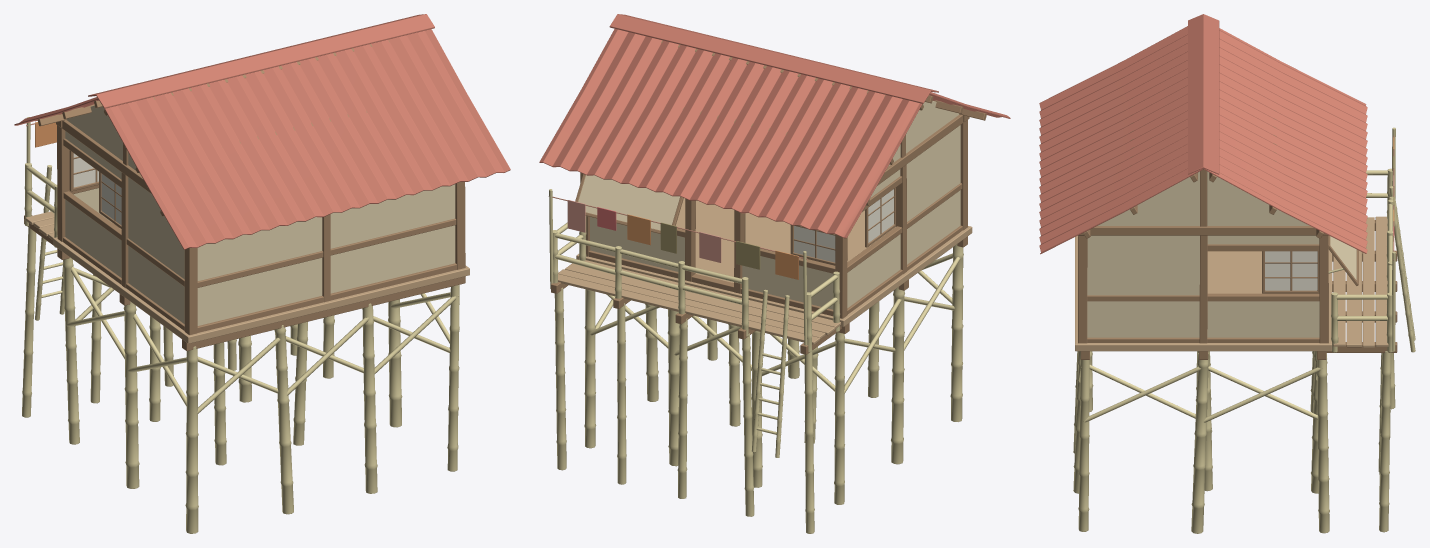
The model's file is house_water_1000.glb.
The picture shows the model from 3 angles, left to right: view 1: azimuth 30°, elevation 25°; view 2: azimuth 150°, elevation 25°; view 3: azimuth 270°, elevation 25°; orthographic projection. The views are drawn at different scales.
Visible parts, largest first — view 1: water_1000_tin, water_1000_bamboo, water_1000_sawali, water_1000_timber, water_1000_plank, water_1000_capiz; view 2: water_1000_tin, water_1000_bamboo, water_1000_sawali, water_1000_plank, water_1000_timber, water_1000_cloth, water_1000_capiz; view 3: water_1000_tin, water_1000_sawali, water_1000_bamboo, water_1000_timber, water_1000_plank, water_1000_capiz.
Part boxes in pixels (x1=…): water_1000_tin: x1=14, y1=14, x2=510, y2=249; water_1000_bamboo: x1=22, y1=117, x2=459, y2=533; water_1000_sawali: x1=65, y1=105, x2=455, y2=325; water_1000_timber: x1=24, y1=40, x2=465, y2=350; water_1000_plank: x1=25, y1=211, x2=469, y2=343; water_1000_capiz: x1=73, y1=153, x2=121, y2=225; water_1000_tin: x1=539, y1=14, x2=1010, y2=238; water_1000_bamboo: x1=549, y1=189, x2=963, y2=533; water_1000_sawali: x1=578, y1=101, x2=960, y2=309; water_1000_plank: x1=558, y1=198, x2=972, y2=344; water_1000_timber: x1=551, y1=40, x2=986, y2=354; water_1000_cloth: x1=548, y1=196, x2=807, y2=279; water_1000_capiz: x1=794, y1=189, x2=893, y2=262; water_1000_tin: x1=1039, y1=14, x2=1367, y2=254; water_1000_sawali: x1=1087, y1=171, x2=1356, y2=337; water_1000_bamboo: x1=1073, y1=127, x2=1415, y2=533; water_1000_timber: x1=1078, y1=106, x2=1397, y2=359; water_1000_plank: x1=1075, y1=216, x2=1388, y2=351; water_1000_capiz: x1=1265, y1=251, x2=1317, y2=290.
Bounding box in the file's own units: 6.95 × 8.05 × 7.22.
